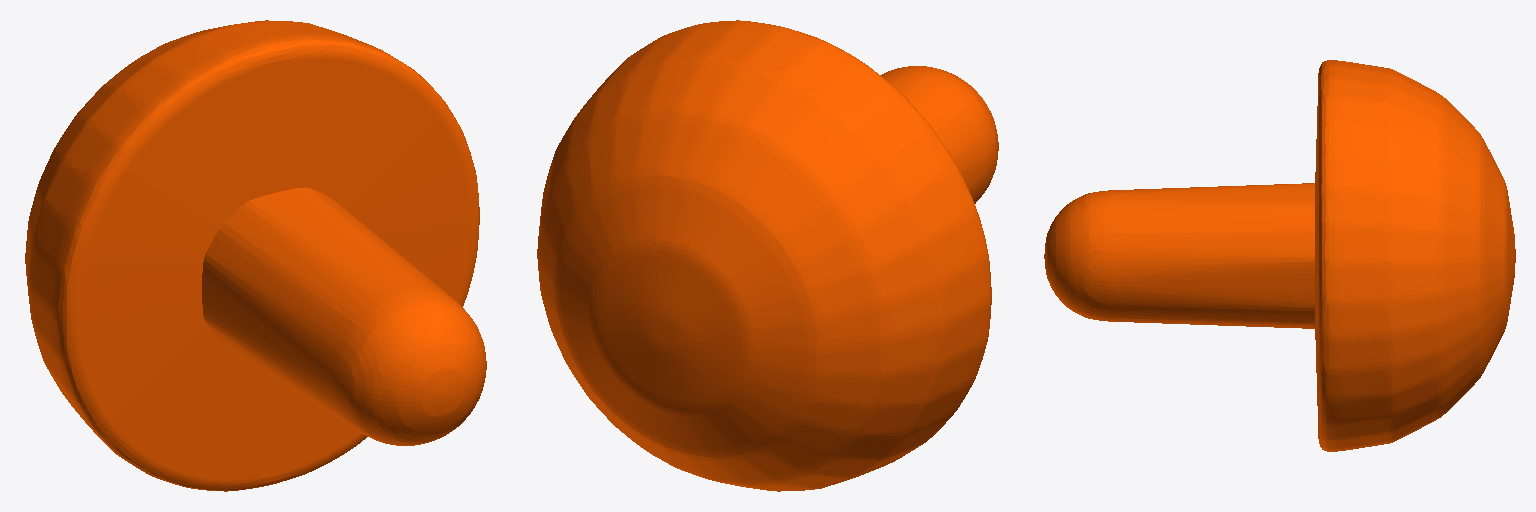
The robot description file, URDF, robot "Mushroom":
<?xml version="1.0" ?>
<robot name="Mushroom">
   <material name="obj_color">
      <color rgba="1.0 0.423529411765 0.0392156862745 1.0"/>
   </material>
   <link name="top">
      <inertial>
         <origin rpy="0.002088038382935758 0.002438438921940855 0.002440430092967833" xyz="2.222194162031933e-08 0.0258587256103319 -6.384293294566253e-08"/>
         <mass value="1.446334013652581"/>
         <inertia ixx="0.002440429972588598" ixy="-1.008666518433947e-09" ixz="-1.548145468279623e-08" iyy="0.002088038382939027" iyz="-3.660225791988932e-10" izz="0.00243843904231682"/>
      </inertial>
      <visual>
         <origin rpy="0 0 0" xyz="0 0 0"/>
         <geometry>
            <mesh filename="top_watertight_tiny.obj" scale="1 1 1"/>
         </geometry>
         <material name="obj_color"/>
      </visual>
      <collision>
         <origin rpy="0 0 0" xyz="0 0 0"/>
         <geometry>
            <mesh filename="top_watertight_tiny.obj" scale="1 1 1"/>
         </geometry>
      </collision>
   </link>
</robot>

--- Facts derived from the render (not from the file) ---
3 views of the same robot in one strip: view 1: azimuth 30°, elevation 25°; view 2: azimuth 150°, elevation 25°; view 3: azimuth 270°, elevation 25° (orthographic).
Robot: Mushroom — 1 links, 0 joints (none); root link top; default pose: all joints at 0.
Visible links, largest first — view 1: top; view 2: top; view 3: top.
Link boxes in pixels (x1,y1,x2,y2): top: (25,20,486,491); top: (537,20,998,491); top: (1044,60,1515,451).
Bounding box of the posed robot: 0.1295 × 0.1558 × 0.1296 m (x, y, z).
1 mesh visuals loaded from 1 distinct referenced files (1 OBJ).